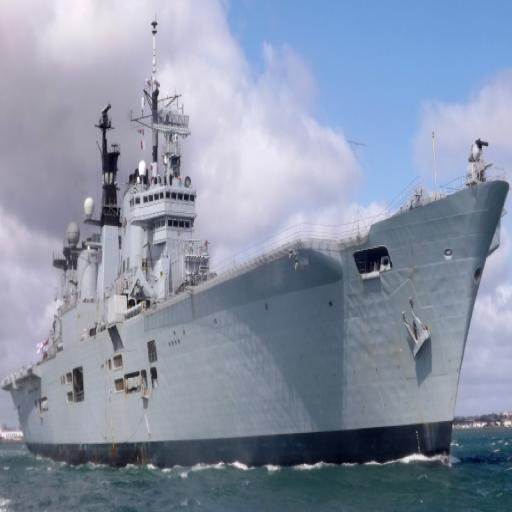Portanaves: (5, 5, 511, 475)
